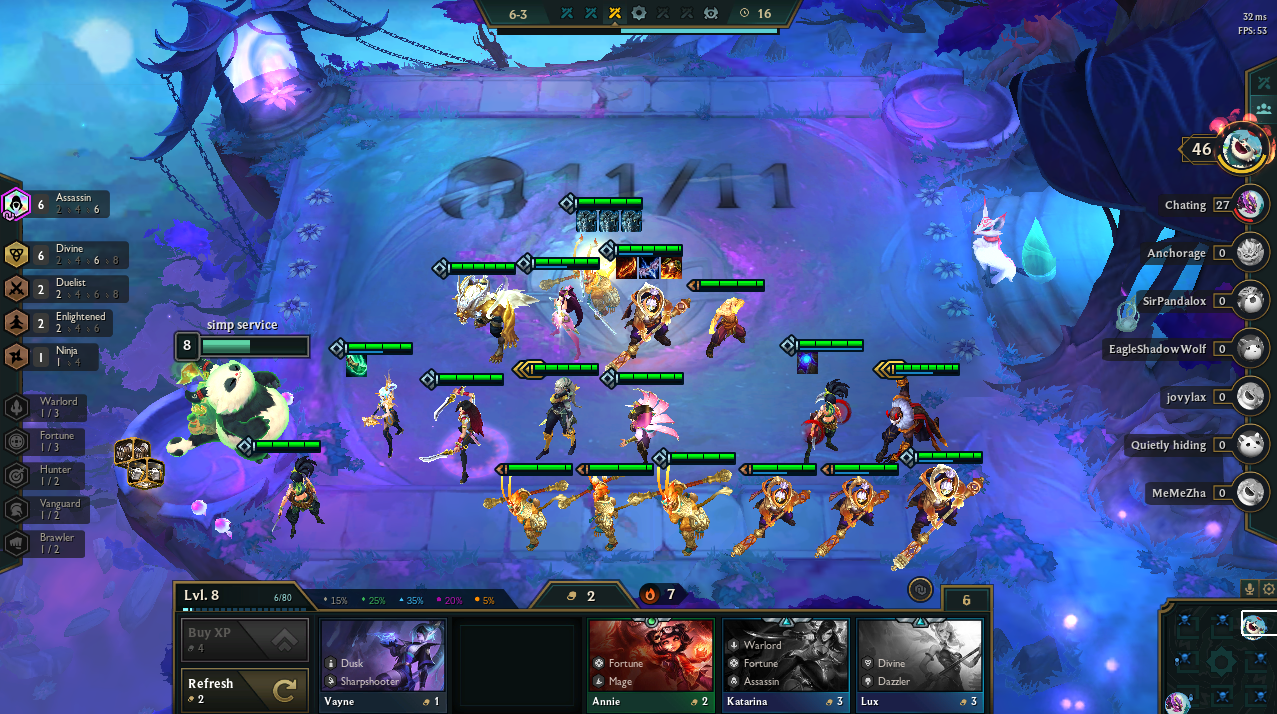1star_jax: (720, 456, 824, 564), (804, 456, 908, 564)
1star_leesin: (676, 270, 780, 378)
1star_wukong: (471, 456, 577, 562), (552, 455, 658, 561)
2star_akali: (754, 327, 874, 484), (510, 246, 610, 378), (230, 430, 338, 549)
2star_jax: (876, 428, 996, 585), (587, 233, 707, 390)
2star_katarina: (409, 356, 515, 494)
2star_lux: (317, 334, 423, 472)
2star_talon: (586, 359, 703, 492)
2star_warwick: (425, 245, 542, 378)
2star_wukong: (530, 187, 662, 337), (618, 434, 745, 573)
3star_diana: (499, 350, 615, 481)
3star_pyke: (856, 351, 974, 491)
item_bluebuff: (795, 347, 821, 376)
item_fon: (571, 202, 603, 235), (618, 205, 644, 234), (596, 204, 622, 233)
item_guinsoo: (614, 252, 640, 281)
item_shojin: (343, 350, 369, 379)
item_spark: (636, 251, 662, 280)
item_sunfire: (658, 252, 684, 281)
trait_assassin6: (1, 185, 115, 223)
trait_assassin_chosen: (1, 183, 34, 223)
trait_brawler1: (1, 528, 107, 565)
trait_divine6: (1, 236, 134, 273)
trait_duelist2: (1, 270, 134, 307)
trait_enlightened2: (1, 302, 134, 339)
trait_fortune1: (1, 423, 107, 460)
trait_hunter1: (1, 457, 107, 494)
trait_ninja1: (1, 339, 134, 376)
trait_vanguard1: (1, 491, 107, 528)
trait_warlord1: (1, 387, 134, 424)
